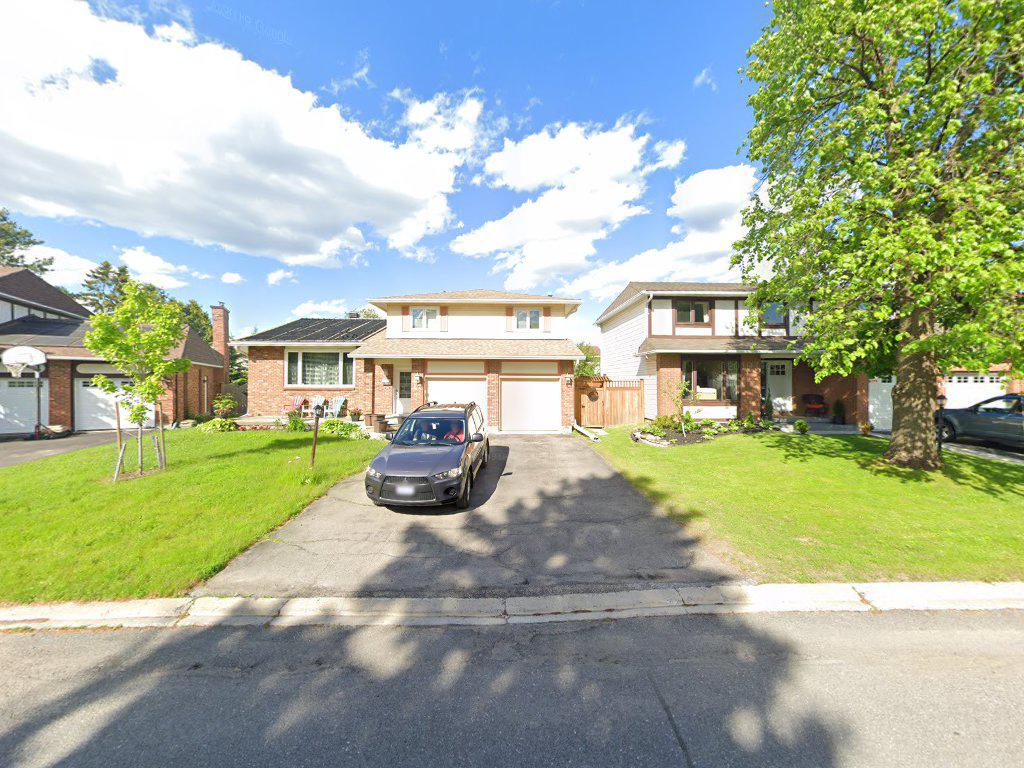trunk: (889, 278, 952, 487)
